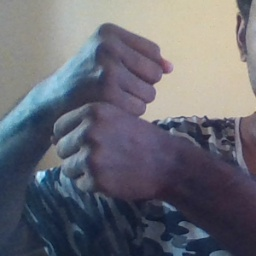G: (54, 17, 178, 198)
